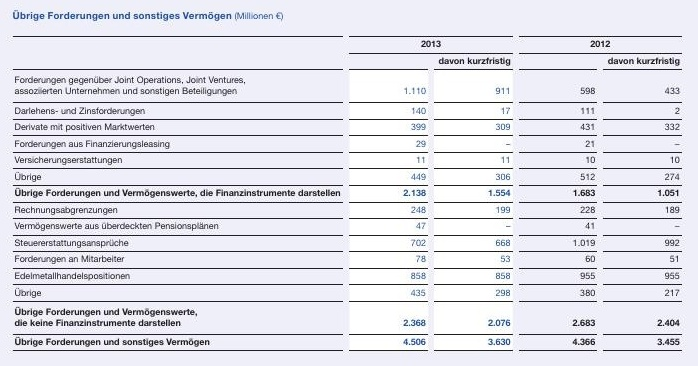table: (0, 0, 698, 366)
